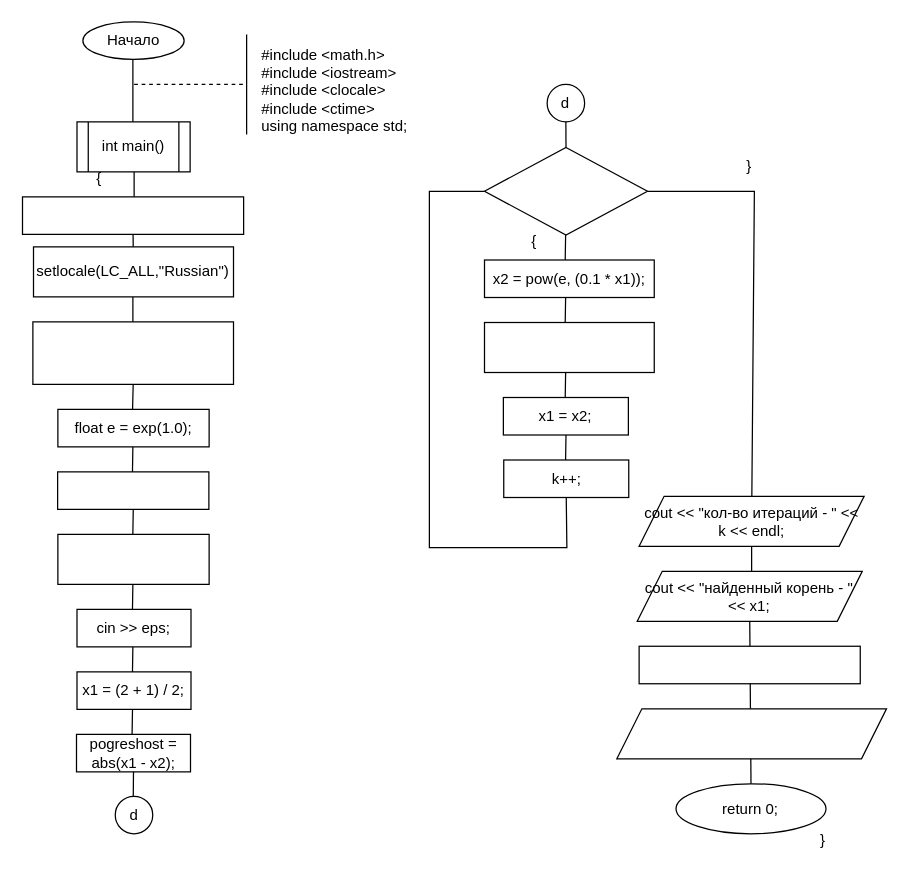
This 909x881 diagram has some shape labels left out. The centre of each missing label's shape, as x and y in pixels:
cout << " Время выполнения - "<<end_time-start_time<<endl;: point (751, 733)
cout << "Введите точность - ";: point (133, 558)
float eps, x1, x2, pogreshost, k;: point (133, 352)
k = 0;: point (132, 490)
pogreshost = abs(x2 - x1);: point (568, 346)
unsigned int end_time = clock();: point (749, 664)
unsigned int start_time = clock();: point (132, 215)
while (pogreshost > eps): point (565, 190)
